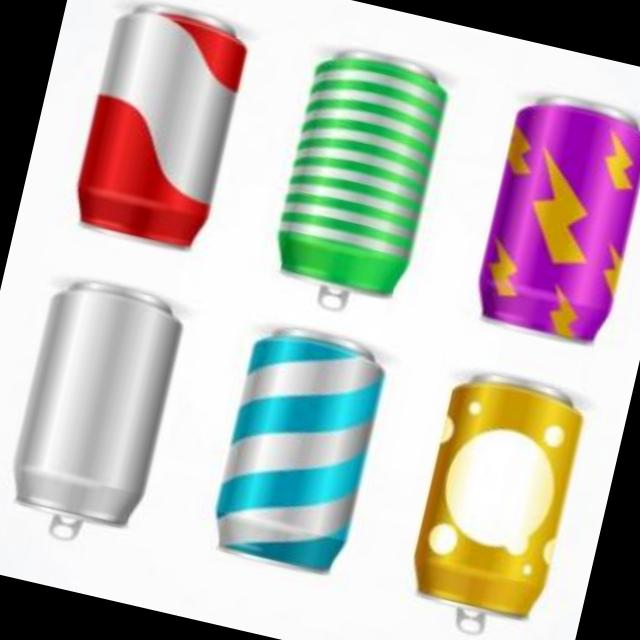metal: (275, 56, 442, 310), (411, 379, 577, 634), (11, 284, 176, 539), (74, 11, 241, 248), (213, 334, 378, 573), (476, 104, 640, 343)
